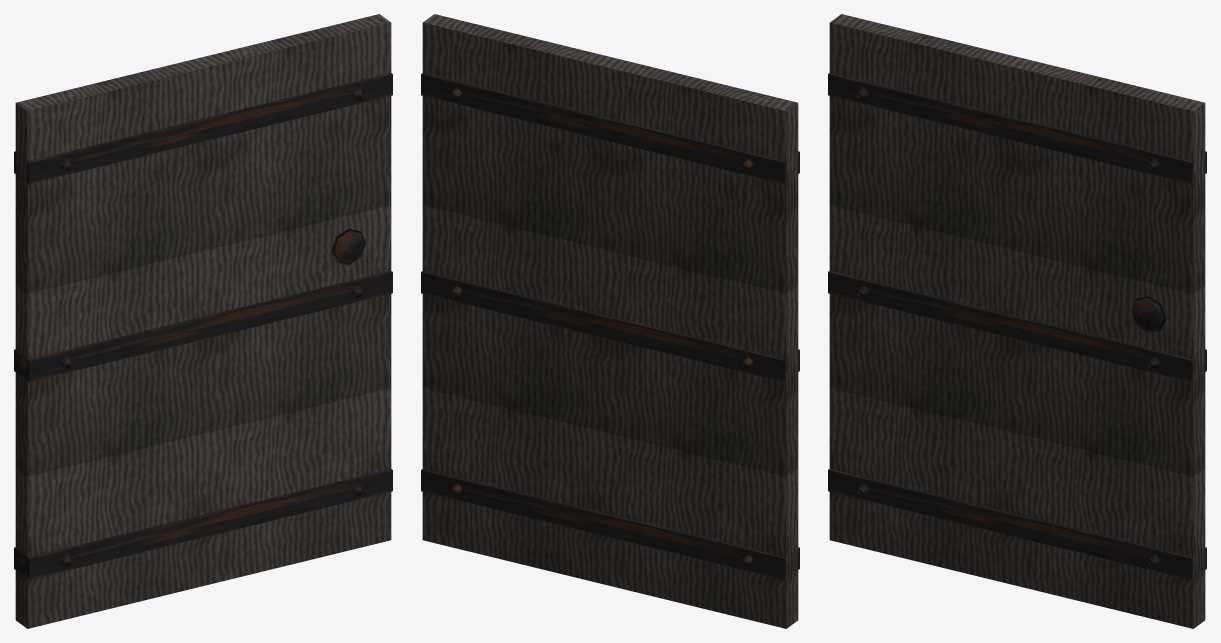
The model's file is exit_door.glb.
3 views of the same model, side by side, from view 1: azimuth 30°, elevation 25°; view 2: azimuth 150°, elevation 25°; view 3: azimuth 330°, elevation 25° (orthographic).
Parts seen in each view (by area): view 1: exit_door; view 2: exit_door; view 3: exit_door.
Boxes of the visible parts, bbox=[...] form: exit_door: bbox=[14, 14, 392, 628]; exit_door: bbox=[421, 14, 799, 628]; exit_door: bbox=[828, 14, 1206, 628].
Size of the model in its own units: 2.5 by 3.4 by 0.2659.
Materials: 2 (2 with a texture image).
